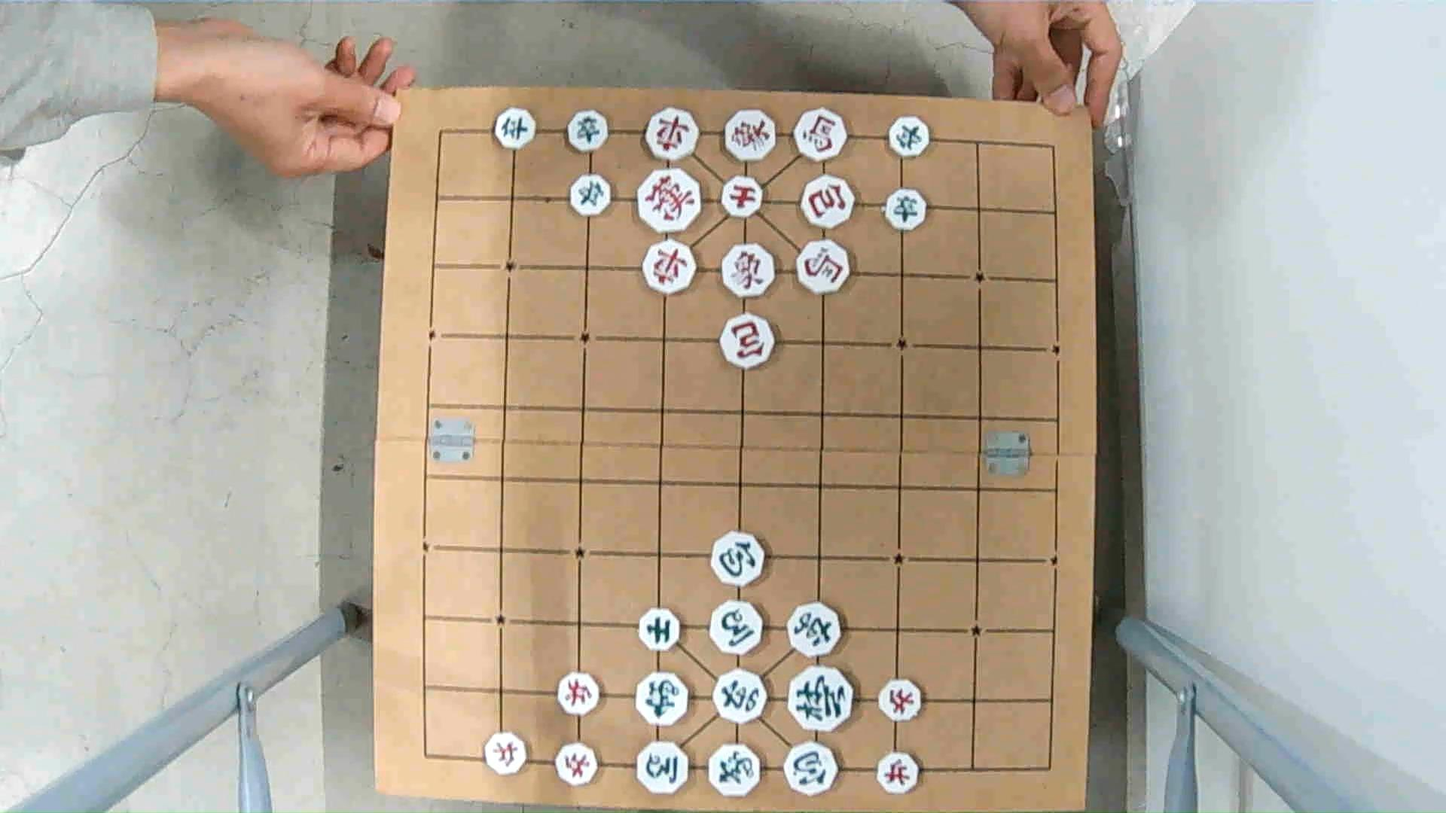cha_green: (786, 604, 844, 655), (711, 670, 768, 720)
cha_red: (642, 111, 699, 160), (640, 244, 697, 293)
jol_green: (568, 112, 615, 156), (494, 108, 545, 148), (570, 178, 615, 218), (883, 191, 927, 231), (888, 118, 932, 157)
jol_red: (484, 731, 529, 775), (559, 675, 606, 717), (877, 678, 922, 718), (556, 744, 599, 784), (876, 753, 921, 791)
ma_green: (710, 603, 768, 654), (633, 742, 689, 792)
ma_red: (798, 238, 849, 294), (791, 112, 846, 160)
po_green: (709, 536, 766, 586), (784, 743, 841, 793)
po_red: (720, 319, 776, 369), (800, 180, 855, 229)
sa_green: (636, 609, 681, 651)
sa_red: (720, 176, 765, 215)
sang_green: (707, 742, 766, 799), (632, 672, 688, 723)
sang_red: (724, 245, 776, 298), (727, 112, 780, 161)
wang_green: (786, 665, 856, 728)
wang_red: (633, 170, 700, 230)
